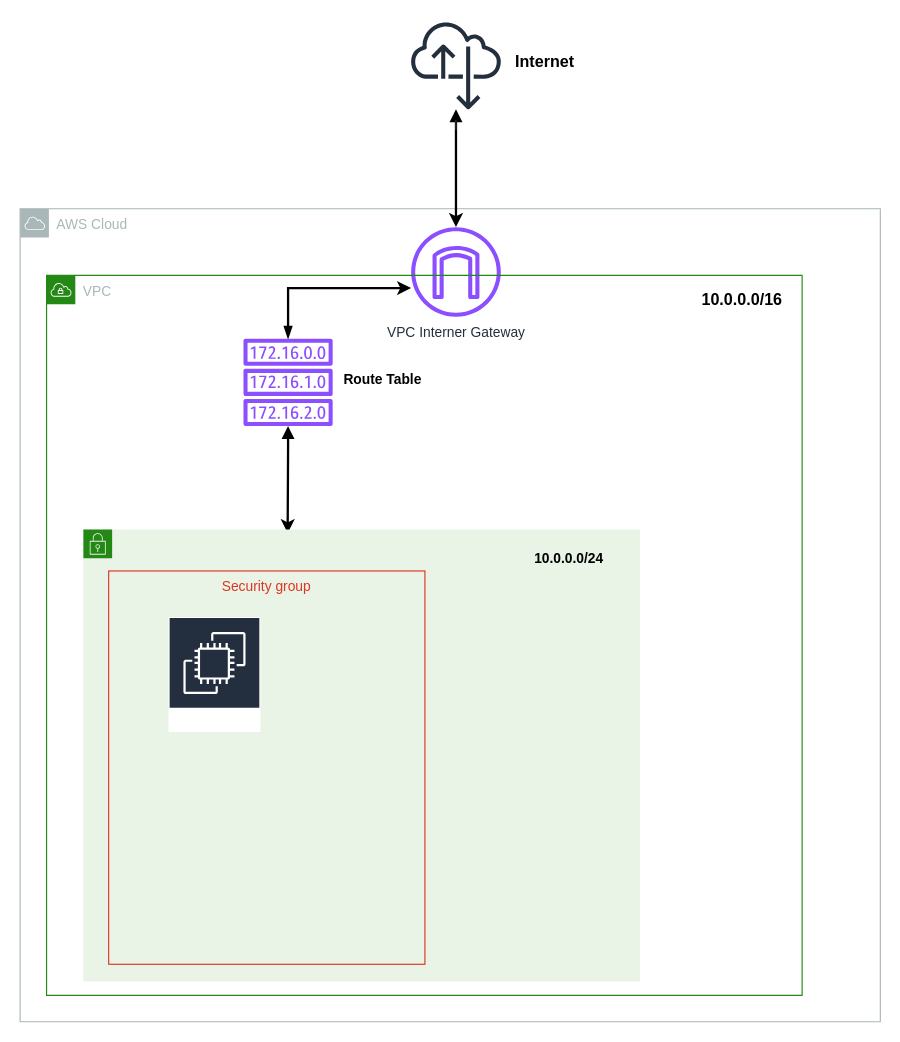
The diagram is 900 pixels wide and 1042 high, and some of its shapes have lost their labels. The box of each missing label's shape, as (x1, y1, x2, y2) in pixels:
Amazon EC2: (167, 616, 260, 732)
Public subnet: (82, 528, 640, 982)
